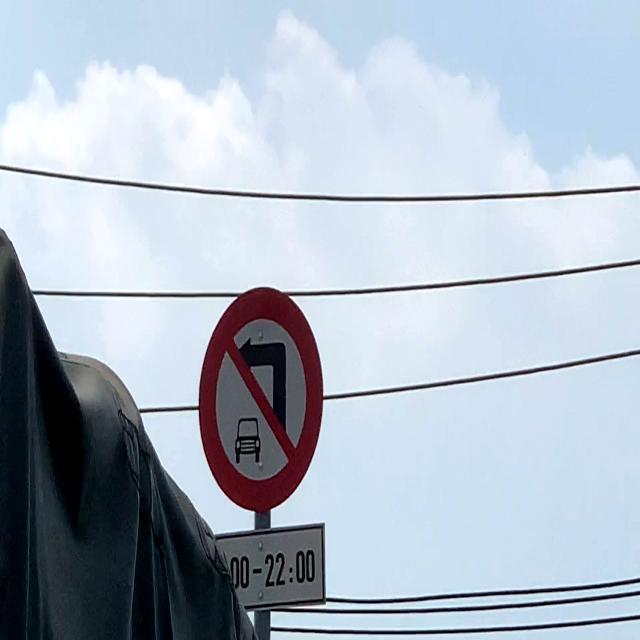123a-cam-re-trai: (197, 289, 322, 508)
